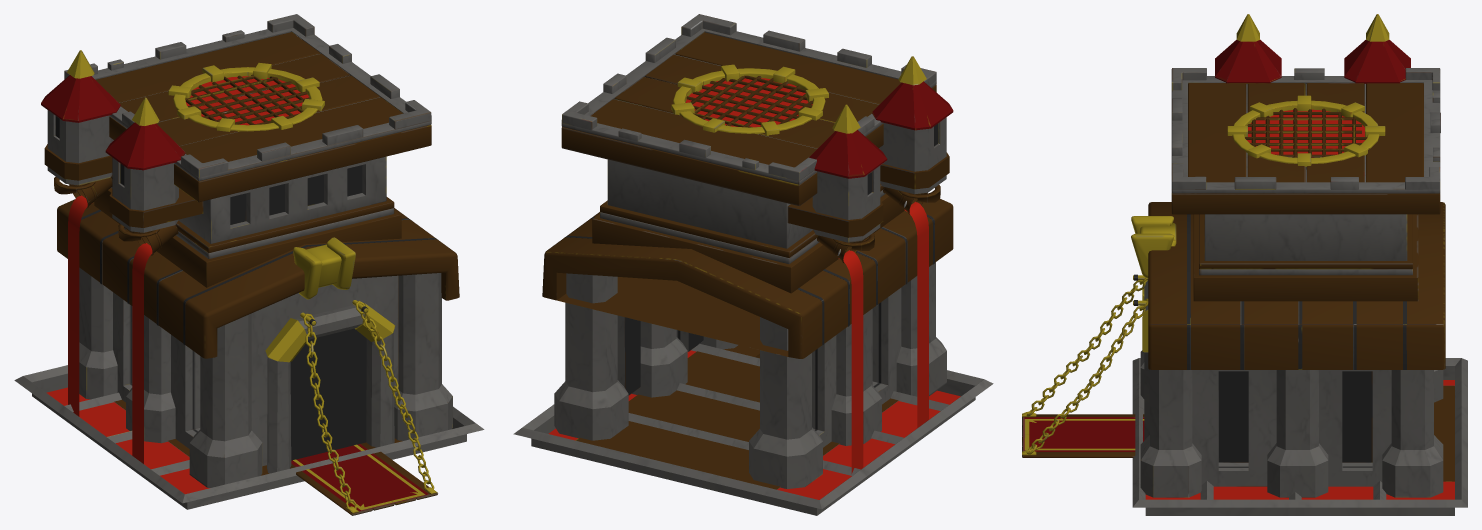
File: Tower.fbx
3 renders of one model, left to right at view 1: azimuth 30°, elevation 25°; view 2: azimuth 150°, elevation 25°; view 3: azimuth 270°, elevation 25°, orthographic. The views are drawn at different scales.
Parts seen in each view (by area): view 1: Plane, Plane.023, Plane.032, Cube.027, Plane.006, Plane.041, Cube.025, Plane.016, Plane.017, Plane.002, Plane.010, Plane.012 (+30 smaller); view 2: Plane, Plane.023, Plane.032, Plane.038, Cube.026, Plane.006, Cube.024, Plane.002, Plane.010, Plane.012, Cube.028, Cube.027 (+23 smaller); view 3: Plane, Plane.023, Plane.032, Plane.006, Plane.039, Plane.040, Plane.010, Cube.026, Cube.025, Cube.029, Plane.002, Plane.012 (+20 smaller).
Part boxes in pixels (bbox=[...]): Plane: bbox=[57, 199, 459, 358]; Plane.023: bbox=[96, 32, 402, 162]; Plane.032: bbox=[14, 365, 484, 509]; Cube.027: bbox=[189, 313, 262, 487]; Plane.006: bbox=[178, 156, 386, 243]; Plane.041: bbox=[290, 328, 366, 460]; Cube.025: bbox=[394, 273, 452, 440]; Plane.016: bbox=[267, 305, 394, 473]; Plane.017: bbox=[251, 275, 398, 466]; Plane.002: bbox=[109, 116, 431, 202]; Plane.010: bbox=[94, 188, 401, 287]; Plane.012: bbox=[92, 28, 431, 181]; Plane: bbox=[542, 198, 953, 358]; Plane.023: bbox=[590, 32, 901, 167]; Plane.032: bbox=[513, 350, 993, 515]; Plane.038: bbox=[575, 345, 898, 489]; Cube.026: bbox=[554, 273, 628, 440]; Plane.006: bbox=[607, 159, 812, 248]; Cube.024: bbox=[749, 317, 822, 488]; Plane.002: bbox=[561, 85, 936, 205]; Plane.010: bbox=[592, 194, 904, 293]; Plane.012: bbox=[561, 28, 936, 184]; Cube.028: bbox=[831, 310, 881, 445]; Cube.027: bbox=[896, 262, 946, 396]; Plane: bbox=[1148, 202, 1445, 369]; Plane.023: bbox=[1188, 83, 1423, 182]; Plane.032: bbox=[1132, 358, 1467, 515]; Plane.006: bbox=[1204, 214, 1407, 260]; Plane.039: bbox=[1192, 370, 1276, 486]; Plane.040: bbox=[1319, 370, 1391, 486]; Plane.010: bbox=[1193, 214, 1418, 301]; Cube.026: bbox=[1382, 370, 1443, 497]; Cube.025: bbox=[1140, 369, 1201, 497]; Cube.029: bbox=[1267, 370, 1328, 497]; Plane.002: bbox=[1171, 193, 1440, 214]; Plane.012: bbox=[1171, 76, 1440, 193].
Bounding box in the file's own units: 1183 × 1356 × 1478.
